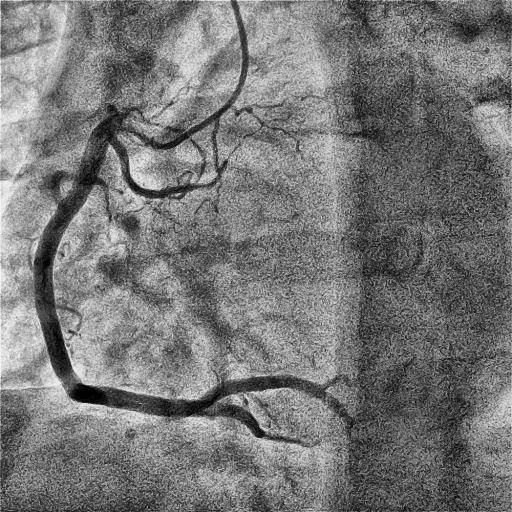pborca: (198, 376, 351, 424)
pda: (204, 403, 319, 447)
rca: (33, 113, 217, 417)
